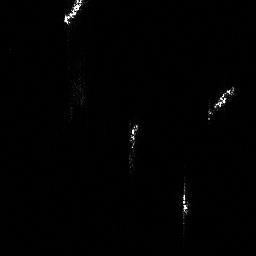ship: (204, 83, 236, 120), (61, 1, 84, 26), (127, 121, 140, 150), (178, 193, 191, 215)
